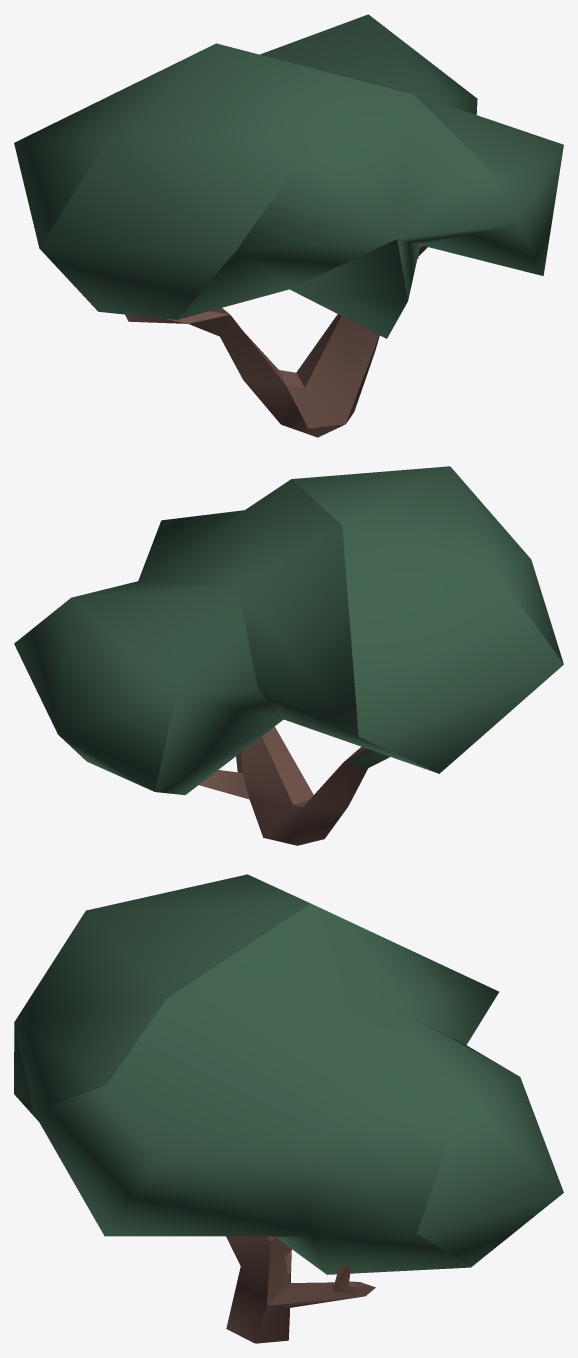
The model's file is bush_large_dark.glb.
3 renders of one model, top to bottom at view 1: azimuth 30°, elevation 25°; view 2: azimuth 150°, elevation 25°; view 3: azimuth 270°, elevation 25°, orthographic. The views are drawn at different scales.
Visible parts, largest first — view 1: bush_large_dark; view 2: bush_large_dark; view 3: bush_large_dark.
Boxes of the visible parts, x1,y1,x2,y2 form: bush_large_dark: [14, 14, 563, 437]; bush_large_dark: [14, 466, 563, 845]; bush_large_dark: [14, 874, 563, 1343].
Bounding box in the file's own units: 8.38 × 6 × 7.43.
Materials: 1 (1 with a texture image).
